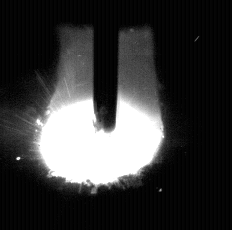arame: (94, 0, 119, 133)
poca: (38, 0, 164, 230)
